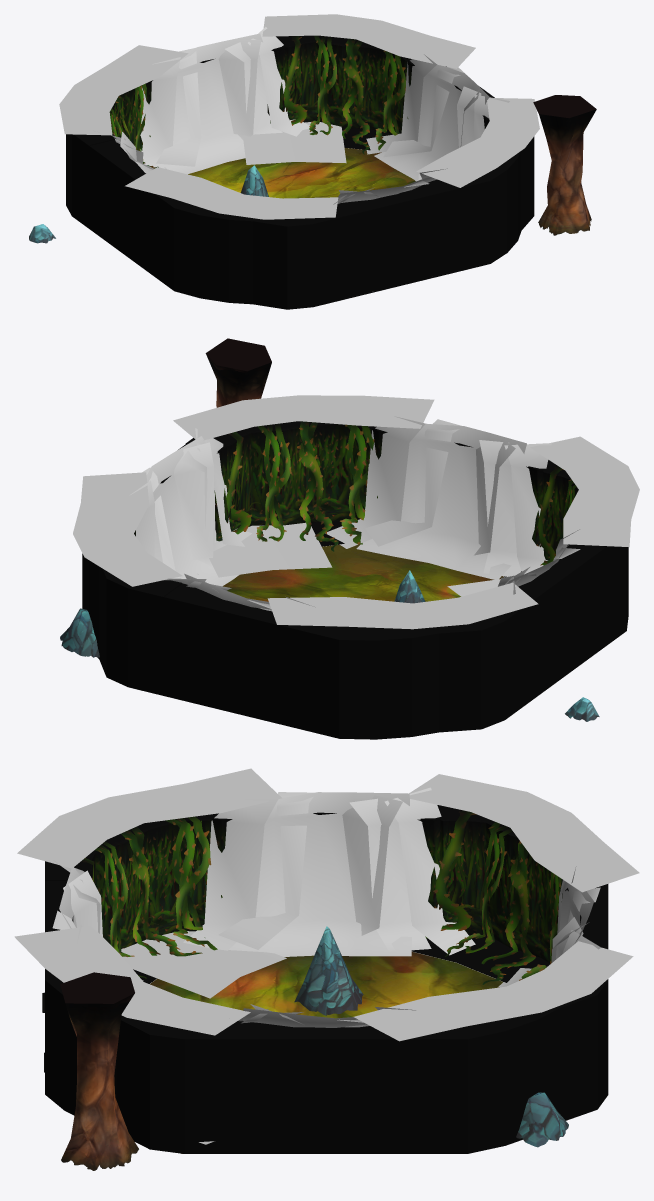
File: Dungeon_021_StartRoom_001_Ev.fbx
3 views of the same model, one above another, from view 1: azimuth 30°, elevation 25°; view 2: azimuth 150°, elevation 25°; view 3: azimuth 270°, elevation 25° (orthographic). The views are drawn at different scales.
Visible parts, largest first — view 1: Dun_011_StartRoom_001_wall, un_021_Door_002_Object1 (×4), Dungeon_021_Tsuta_002, un_021_Door_002 (×3), Dun_011_StartRoom_001_ground, Dungeon_021_Tsuta_001, Dungeon_011_Object_010, Dungeon_021_Tsuta_003, Dun_011_StartRoom_001_shadow, Dungeon_011_Object_011; view 2: Dun_011_StartRoom_001_wall, un_021_Door_002_Object1 (×4), Dungeon_021_Tsuta_002, un_021_Door_002 (×4), Dun_011_StartRoom_001_ground, Dungeon_021_Tsuta_001, Dungeon_021_Tsuta_003, Dungeon_011_Object_010, Dungeon_011_Object_012, Dungeon_011_Object_011; view 3: Dun_011_StartRoom_001_wall, un_021_Door_002_Object1 (×4), Dungeon_021_Tsuta_002, un_021_Door_002 (×4), Dungeon_021_Tsuta_001, Dun_011_StartRoom_001_ground, Dungeon_011_Object_010, Dungeon_021_Tsuta_003, Dungeon_011_Object_011, Dun_011_StartRoom_001_shadow, Dungeon_011_Object_012.
Boxes of the visible parts, <box> form: Dun_011_StartRoom_001_wall: <box>66,35,534,309</box>; un_021_Door_002_Object1 (×4): <box>111,27,509,204</box>; Dungeon_021_Tsuta_002: <box>59,14,539,219</box>; un_021_Door_002 (×3): <box>75,36,486,299</box>; Dun_011_StartRoom_001_ground: <box>188,148,415,198</box>; Dungeon_021_Tsuta_001: <box>110,35,405,168</box>; Dungeon_011_Object_010: <box>533,95,596,235</box>; Dungeon_021_Tsuta_003: <box>242,122,421,180</box>; Dun_011_StartRoom_001_shadow: <box>342,127,460,298</box>; Dungeon_011_Object_011: <box>240,165,268,196</box>; Dun_011_StartRoom_001_wall: <box>82,421,628,739</box>; un_021_Door_002_Object1 (×4): <box>129,416,580,611</box>; Dungeon_021_Tsuta_002: <box>73,395,639,629</box>; un_021_Door_002 (×4): <box>134,426,606,729</box>; Dun_011_StartRoom_001_ground: <box>223,544,503,601</box>; Dungeon_021_Tsuta_001: <box>226,421,576,565</box>; Dungeon_021_Tsuta_003: <box>209,522,500,596</box>; Dungeon_011_Object_010: <box>205,338,271,407</box>; Dungeon_011_Object_012: <box>60,608,99,657</box>; Dungeon_011_Object_011: <box>394,570,425,603</box>; Dun_011_StartRoom_001_wall: <box>45,810,608,1153</box>; un_021_Door_002_Object1 (×4): <box>52,787,600,1027</box>; Dungeon_021_Tsuta_002: <box>14,768,639,1041</box>; un_021_Door_002 (×4): <box>45,805,608,1153</box>; Dungeon_021_Tsuta_001: <box>82,810,561,984</box>; Dun_011_StartRoom_001_ground: <box>150,951,502,1153</box>; Dungeon_011_Object_010: <box>60,972,138,1170</box>; Dungeon_021_Tsuta_003: <box>121,931,286,1144</box>; Dungeon_011_Object_011: <box>294,926,363,1015</box>; Dun_011_StartRoom_001_shadow: <box>42,933,550,1072</box>; Dungeon_011_Object_012: <box>516,1092,568,1147</box>.
Size of what is drawn, in the model's own units: 11.98 by 2.96 by 10.
